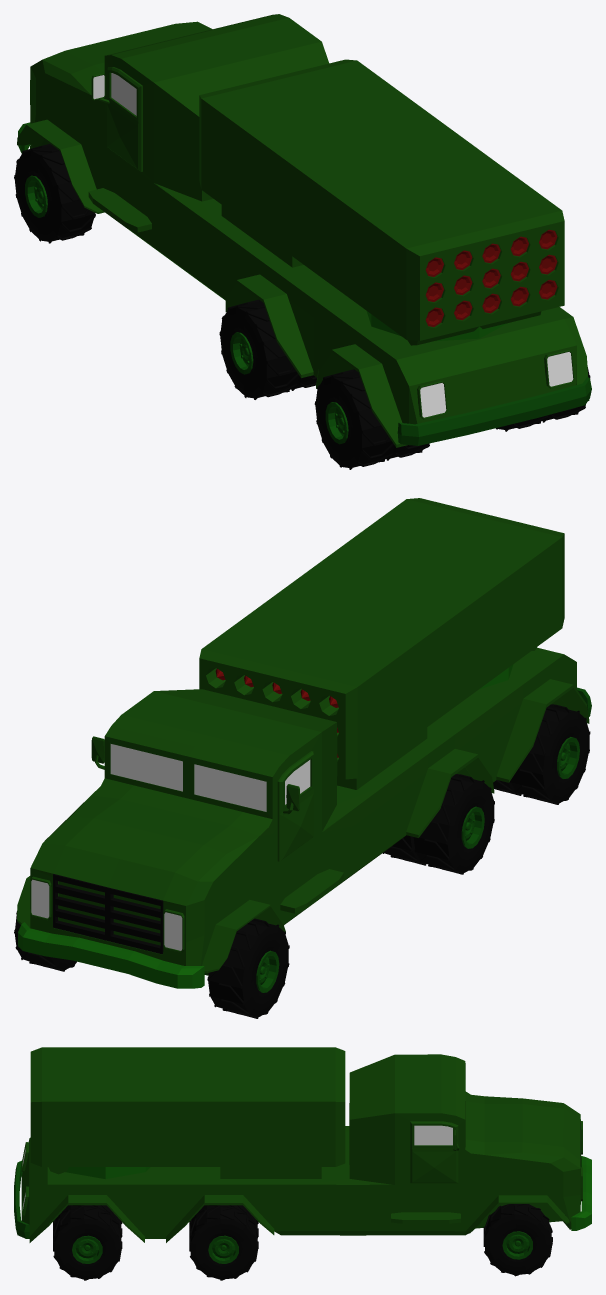
Rendered from MLRS_Model.fbx.
The picture shows the model from 3 angles, top to bottom: view 1: azimuth 30°, elevation 25°; view 2: azimuth 150°, elevation 25°; view 3: azimuth 270°, elevation 25°; orthographic projection. The views are drawn at different scales.
Visible parts, largest first — view 1: Tubes, Body, Body.002, Wheels_FWD_L, Wheels_Back_Out_L, Wheels_Midle_Out_L, Bumper_Back, Door_L, Body.001, Plane.011, Platform, Cube.015 (+3 smaller); view 2: Body, Tubes, Body.002, Wheels_FWD_L, Wheels_Midle_Out_L, Wheels_Back_Out_L, Cube.005, Bumper_FWD, Windows_FWD, Body.001, Door_L, Plane.011 (+4 smaller); view 3: Body, Tubes, Wheels_Midle_Out_R, Wheels_Back_Out_R, Wheels_FWD_R, Body.002, Door_R, Platform, Body.001, Bumper_FWD, Plane.011, Window_Door_R (+4 smaller).
Part boxes in pixels (box(x1,y1,x2,y2)): Tubes: box(199, 59, 564, 340); Body: box(30, 14, 576, 424); Body.002: box(225, 274, 589, 447); Wheels_FWD_L: box(14, 144, 95, 243); Wheels_Back_Out_L: box(314, 369, 394, 469); Wheels_Midle_Out_L: box(219, 299, 299, 399); Bumper_Back: box(397, 376, 591, 445); Door_L: box(107, 67, 142, 171); Body.001: box(17, 119, 104, 213); Plane.011: box(88, 188, 151, 232); Platform: box(221, 205, 303, 267); Cube.015: box(547, 352, 573, 386); Body: box(30, 647, 576, 975); Tubes: box(199, 498, 564, 779); Body.002: box(406, 679, 589, 837); Wheels_FWD_L: box(207, 918, 289, 1018); Wheels_Midle_Out_L: box(413, 774, 494, 874); Wheels_Back_Out_L: box(510, 704, 590, 804); Cube.005: box(53, 874, 163, 954); Bumper_FWD: box(18, 922, 204, 988); Windows_FWD: box(110, 744, 266, 811); Body.001: box(17, 876, 285, 973); Door_L: box(277, 751, 313, 861); Plane.011: box(280, 869, 343, 913); Body: box(21, 1054, 580, 1238); Tubes: box(30, 1047, 345, 1166); Wheels_Midle_Out_R: box(189, 1206, 258, 1280); Wheels_Back_Out_R: box(53, 1206, 122, 1280); Wheels_FWD_R: box(483, 1204, 552, 1276); Body.002: box(29, 1195, 274, 1242); Door_R: box(410, 1121, 458, 1183); Platform: box(220, 1167, 321, 1178); Body.001: box(466, 1195, 569, 1234); Bumper_FWD: box(571, 1155, 591, 1230); Plane.011: box(391, 1212, 460, 1223); Window_Door_R: box(414, 1125, 452, 1145).
Bounding box in the file's own units: 4.18 × 12.54 × 3.98.
